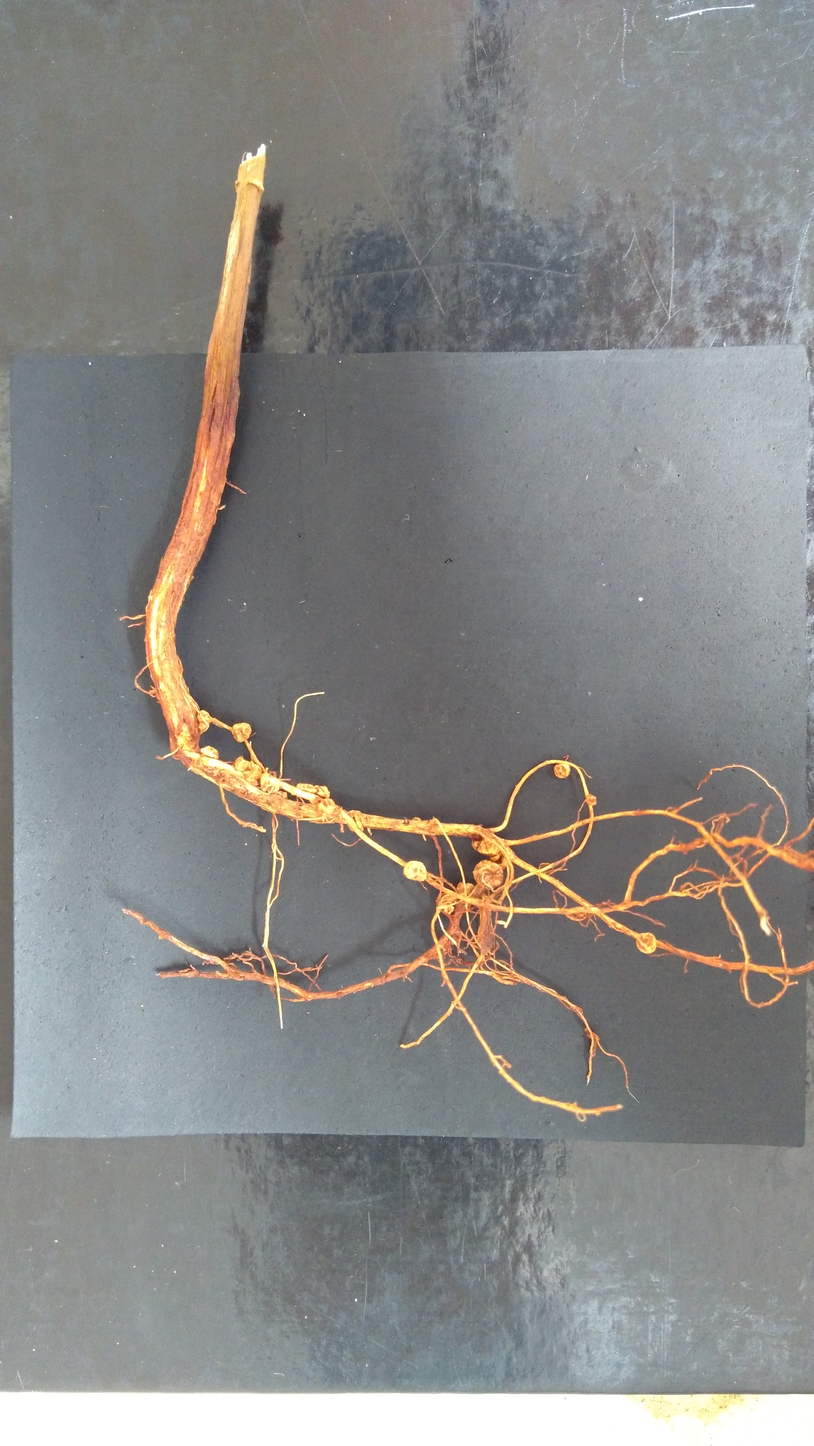nodule: (473, 860, 504, 889), (233, 756, 262, 783), (296, 782, 331, 804), (471, 836, 500, 861), (402, 860, 428, 882), (436, 891, 458, 915), (177, 730, 199, 752), (259, 772, 280, 794), (231, 722, 252, 743), (636, 932, 656, 954), (347, 812, 364, 833), (317, 797, 336, 815), (552, 762, 571, 779), (456, 881, 474, 896), (199, 745, 218, 759), (196, 709, 210, 724), (271, 789, 289, 800), (346, 809, 362, 819), (584, 794, 597, 806), (449, 932, 459, 945), (198, 721, 208, 730), (430, 818, 439, 825)
